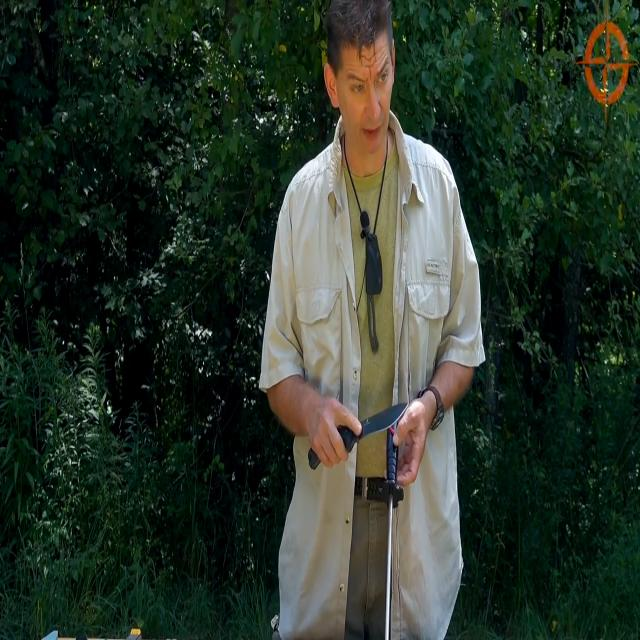knife: (350, 394, 412, 441)
